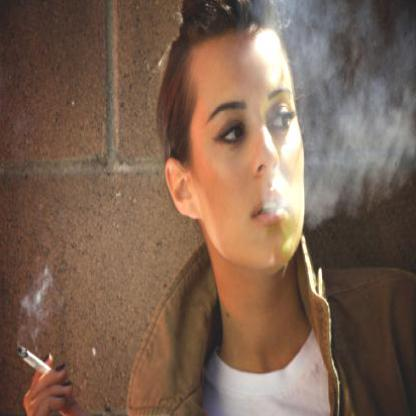cigarette: (15, 340, 51, 379)
person: (112, 0, 354, 415)
smoke: (278, 2, 414, 206), (20, 274, 54, 322)
